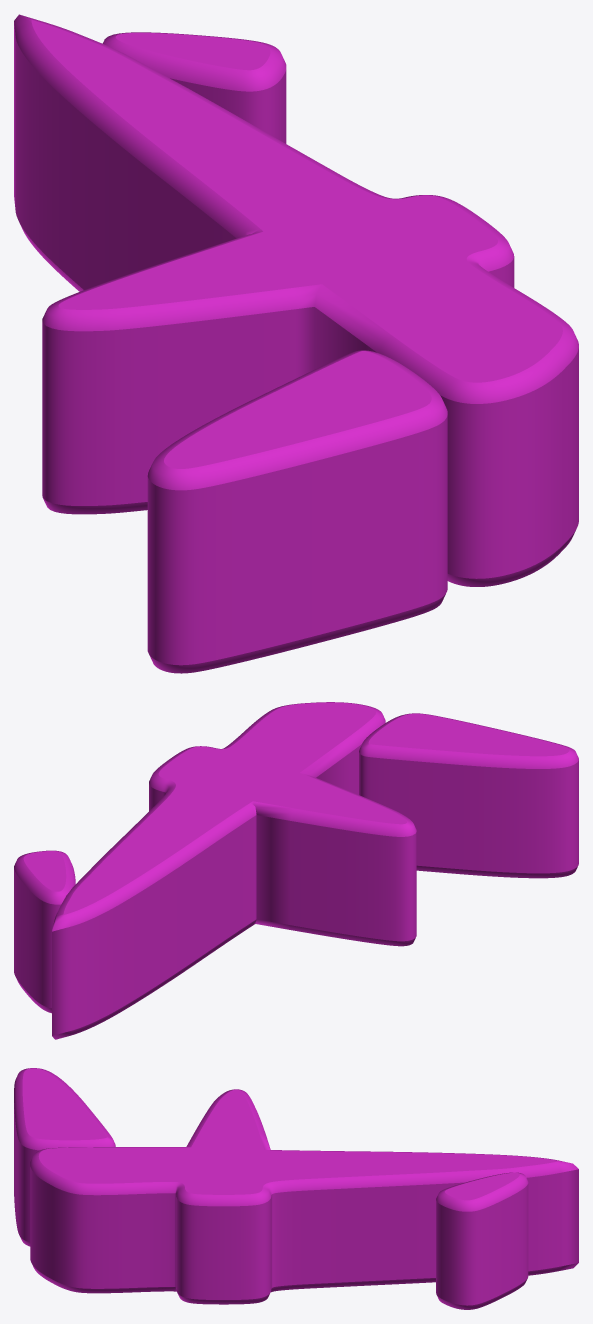
File: Letter_f_Small.fbx
3 renders of one model, top to bottom at view 1: azimuth 30°, elevation 25°; view 2: azimuth 150°, elevation 25°; view 3: azimuth 270°, elevation 25°, orthographic. The views are drawn at different scales.
Visible parts, largest first — view 1: Letter_f; view 2: Letter_f; view 3: Letter_f.
Boxes of the visible parts, bbox=[...] form: Letter_f: bbox=[14, 14, 578, 673]; Letter_f: bbox=[14, 702, 578, 1039]; Letter_f: bbox=[14, 1068, 578, 1309].
Bounding box in the file's own units: 0.3826 × 0.14 × 0.6558.
